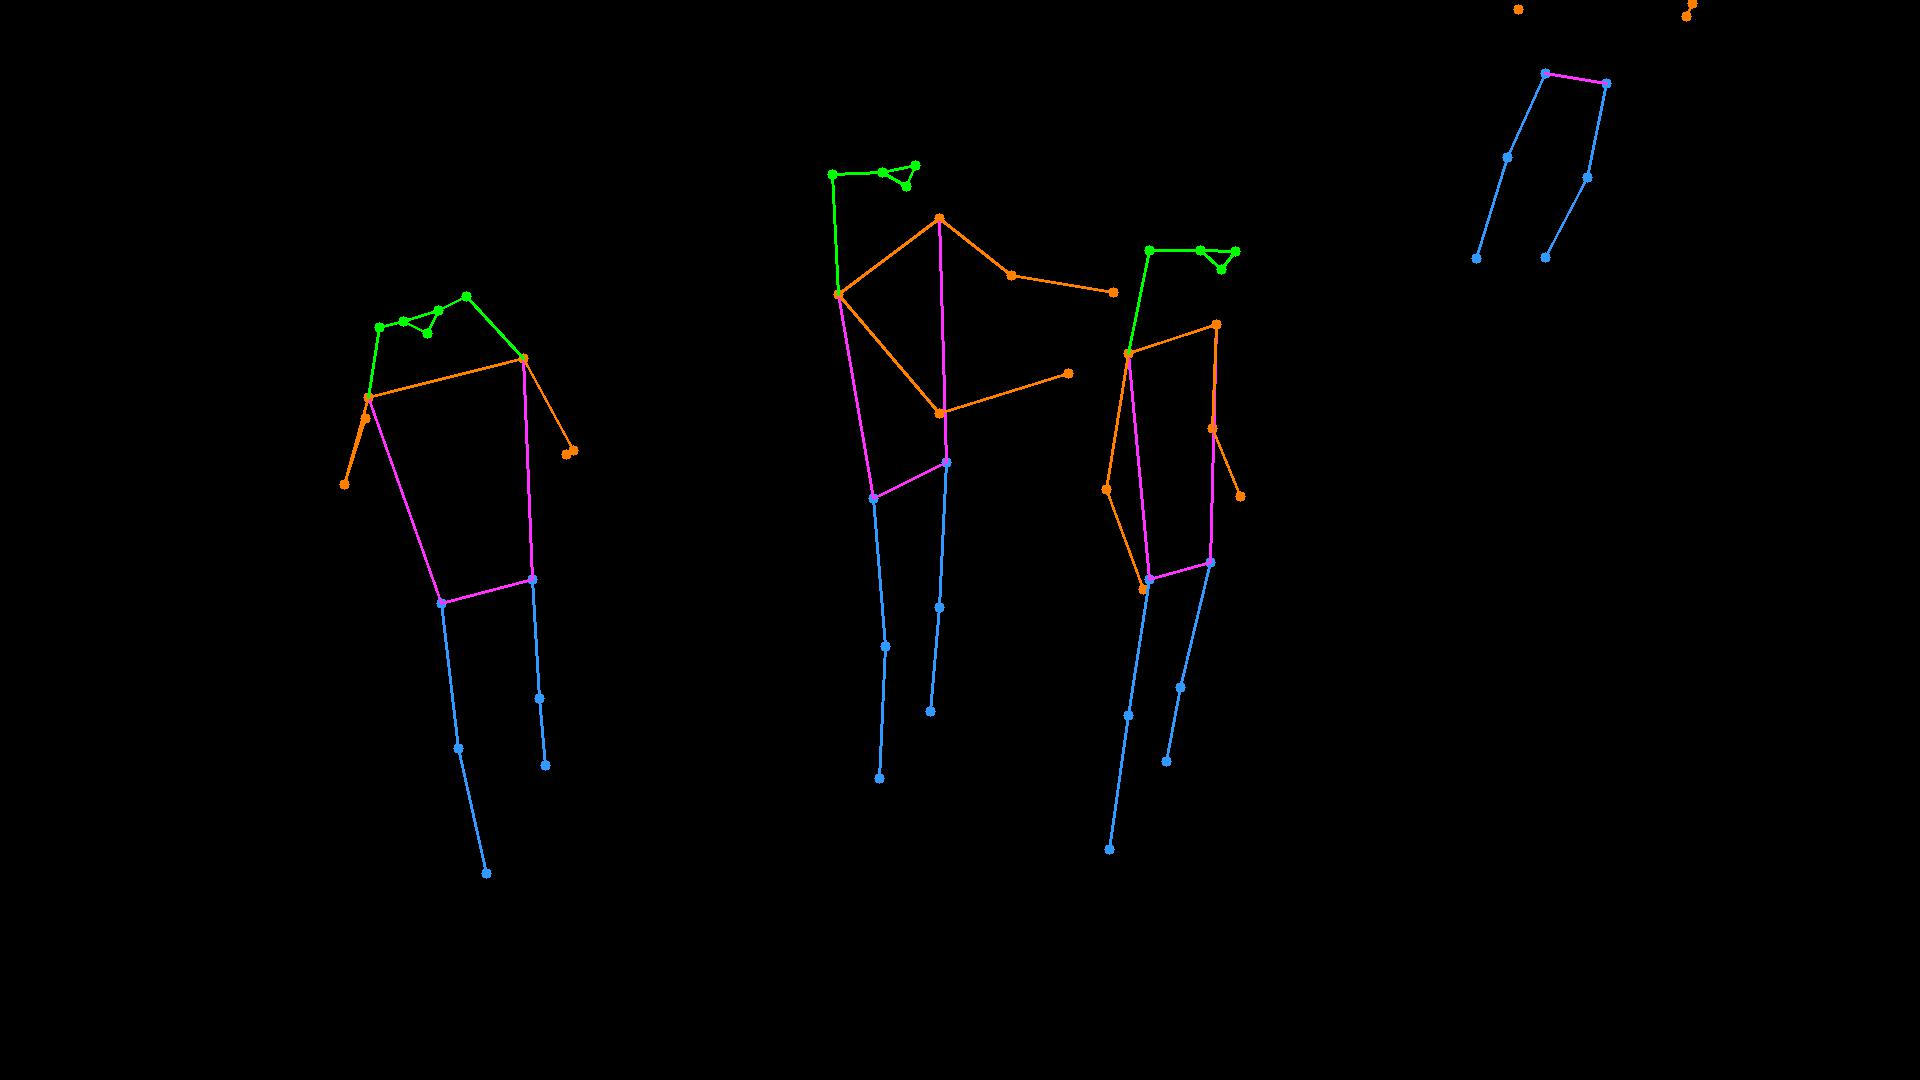normal: (756, 115, 1329, 919), (306, 253, 649, 922)
